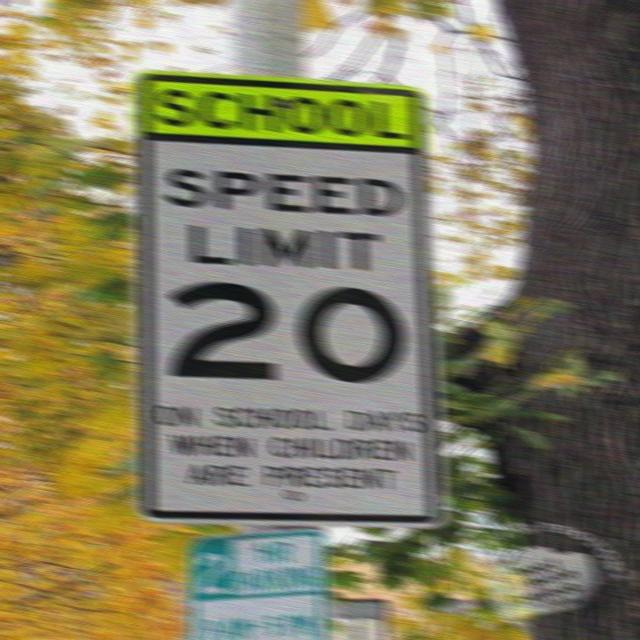speedLimit20: (141, 73, 429, 506)
